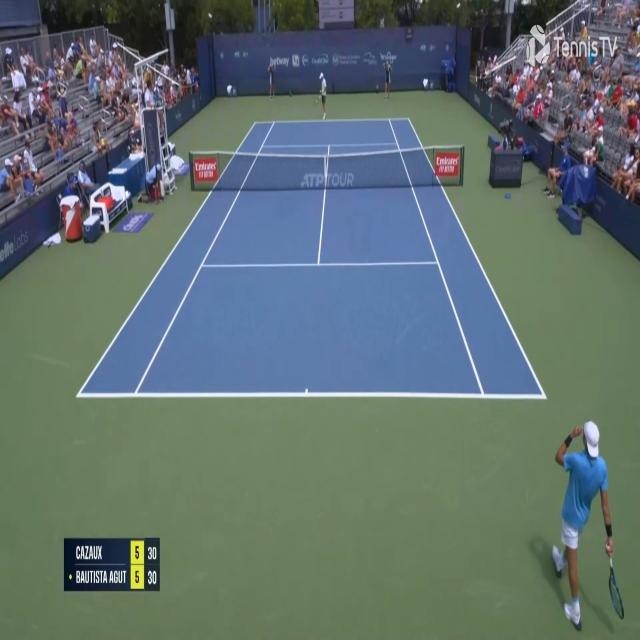tennis-player: (528, 412, 625, 636), (314, 70, 328, 120)
